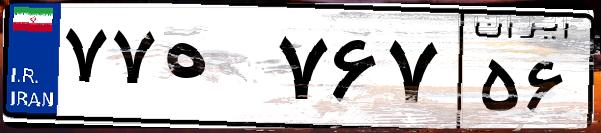5: (475, 38, 525, 113)
6: (330, 28, 385, 110), (525, 38, 570, 115)
7: (270, 28, 330, 110), (385, 28, 445, 110), (57, 26, 110, 100), (110, 28, 158, 98)
ه: (158, 20, 270, 120)
